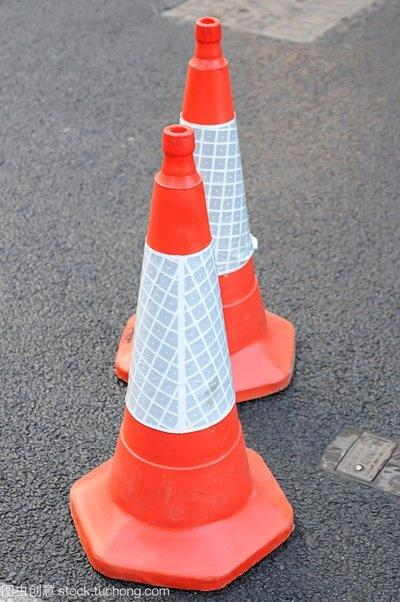cone_barrel: (91, 123, 259, 541), (172, 16, 269, 356)
